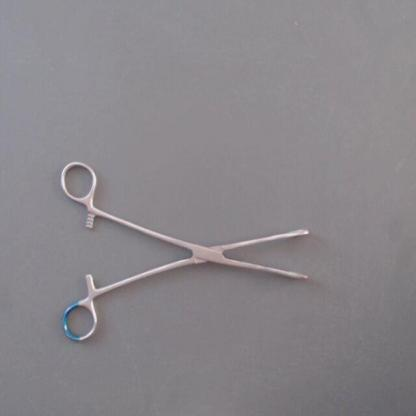Sponge Forceps: (54, 151, 320, 351)
